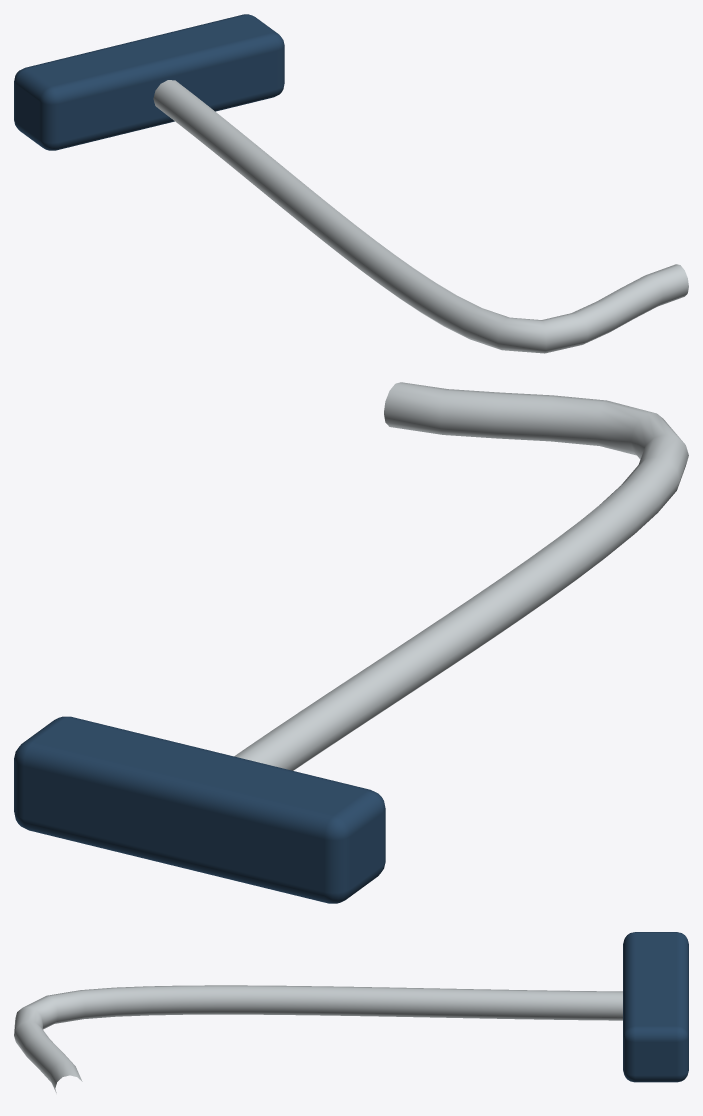
Rendered from rowing-boathouse-and-regatta-course-foot-stretcher-adj-8591eb40__32151.glb.
The picture shows the model from 3 angles, top to bottom: view 1: azimuth 30°, elevation 25°; view 2: azimuth 150°, elevation 25°; view 3: azimuth 270°, elevation 25°; orthographic projection. The views are drawn at different scales.
Visible parts, largest first — view 1: foot-stretcher-adjustment-tool; view 2: foot-stretcher-adjustment-tool; view 3: foot-stretcher-adjustment-tool.
Boxes of the visible parts, x1,y1,x2,y2 form: foot-stretcher-adjustment-tool: [14, 14, 688, 353]; foot-stretcher-adjustment-tool: [14, 382, 688, 903]; foot-stretcher-adjustment-tool: [14, 932, 688, 1093].
Bounding box in the file's own units: 0.13 × 0.025 × 0.2764.
